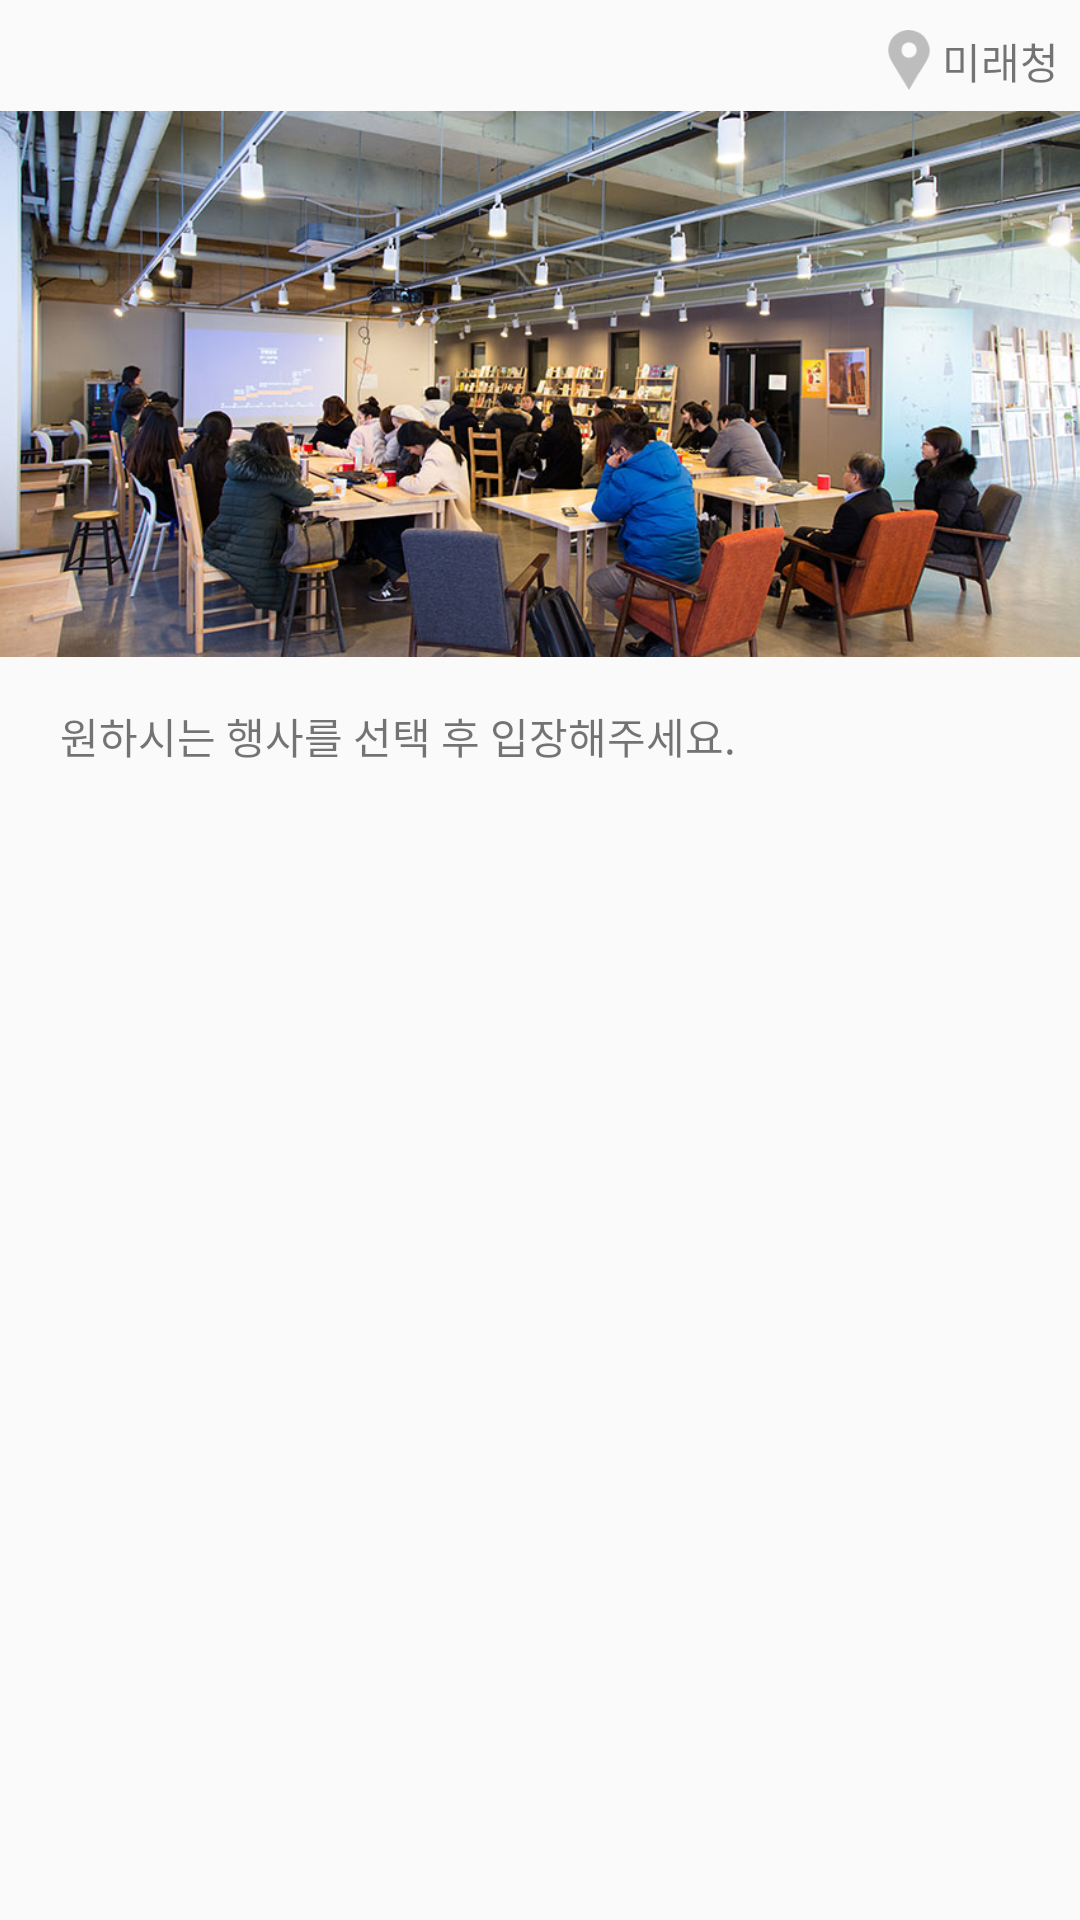

Named icons in this screenshot (1080w x 1920h) and their bounding boxes, (x1, y1, x2, y2):
location: (888, 30, 930, 89)
